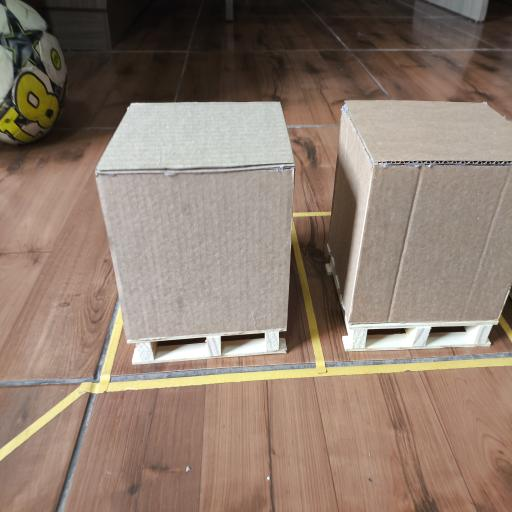pallet: (326, 245, 497, 351), (133, 332, 286, 364)
